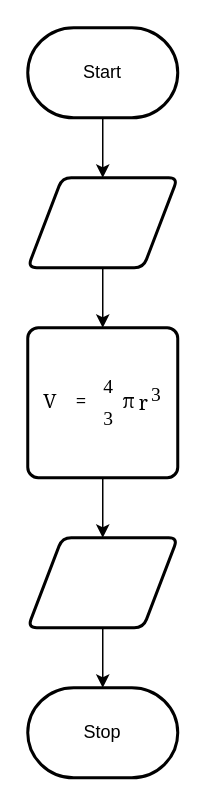
Image size: 204x804. Some labels were removed from this diagram. Here are the shapes that lost their labels. From the top down, the centre of each, then its label:
the point at 102,222: Enter radius of sphere
the point at 102,582: Show volume
